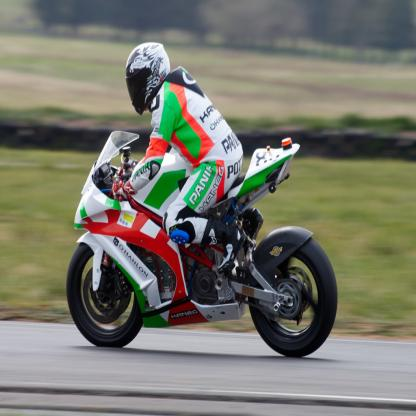Helmet: (124, 42, 170, 116)
